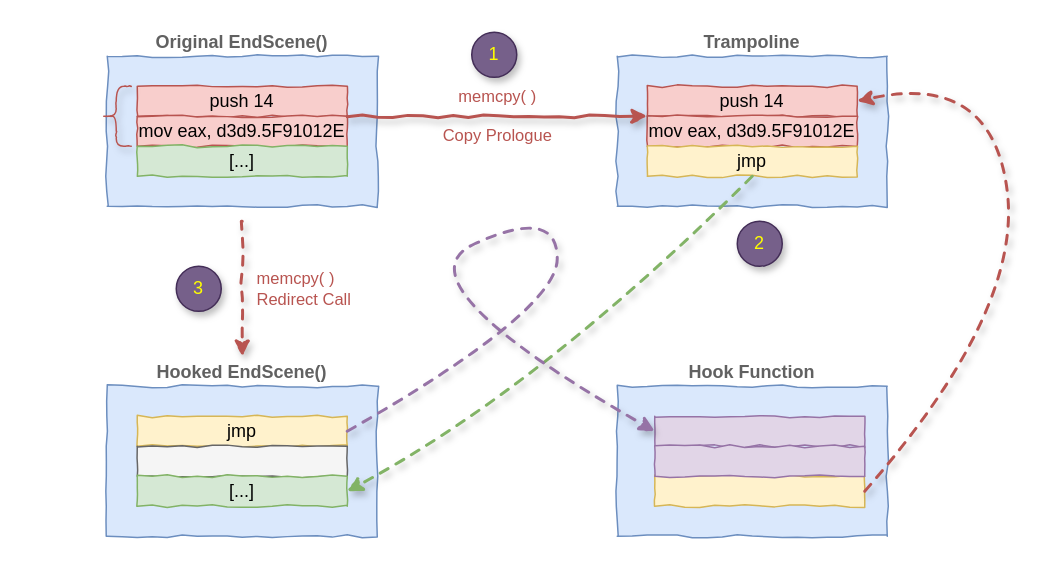
Image size: 1037x563. Some labels were removed from this diagram. Each missing label, with the centre of its shape:
"1337hax( )" goes at [759,460].
"[trash]" goes at [241,460].
"call" goes at [759,490].
"coolStuff( )" goes at [759,430].
"Prologue" goes at [117,118].
